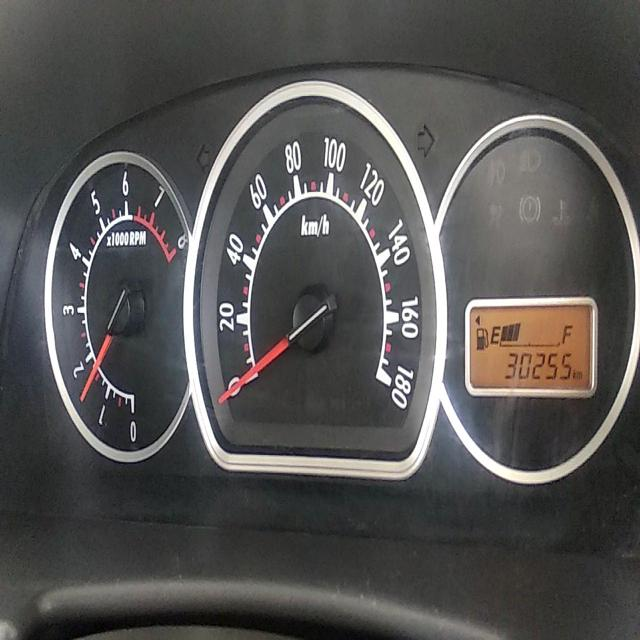odometer: (503, 347, 574, 386)
